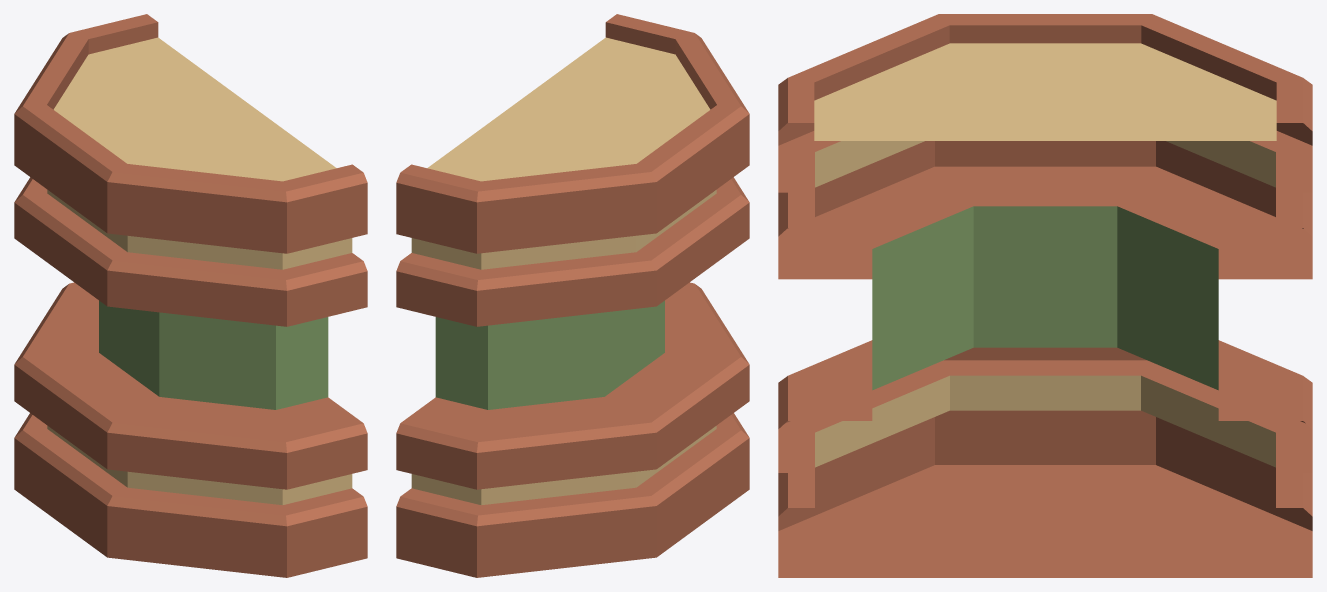
File: CornerPlatform.fbx
The picture shows the model from 3 angles, left to right: view 1: azimuth 30°, elevation 25°; view 2: azimuth 150°, elevation 25°; view 3: azimuth 270°, elevation 25°; orthographic projection. The views are drawn at different scales.
Visible parts, largest first — view 1: Cylinder; view 2: Cylinder; view 3: Cylinder.
Boxes of the visible parts, x1=… form: Cylinder: x1=14, y1=14, x2=367, y2=577; Cylinder: x1=396, y1=14, x2=749, y2=577; Cylinder: x1=778, y1=14, x2=1312, y2=577.
Bounding box in the file's own units: 1097 × 2063 × 2194.
